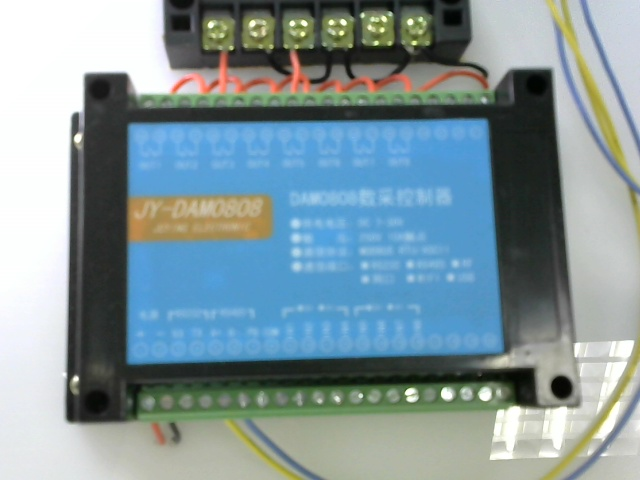relay: (57, 66, 608, 433)
